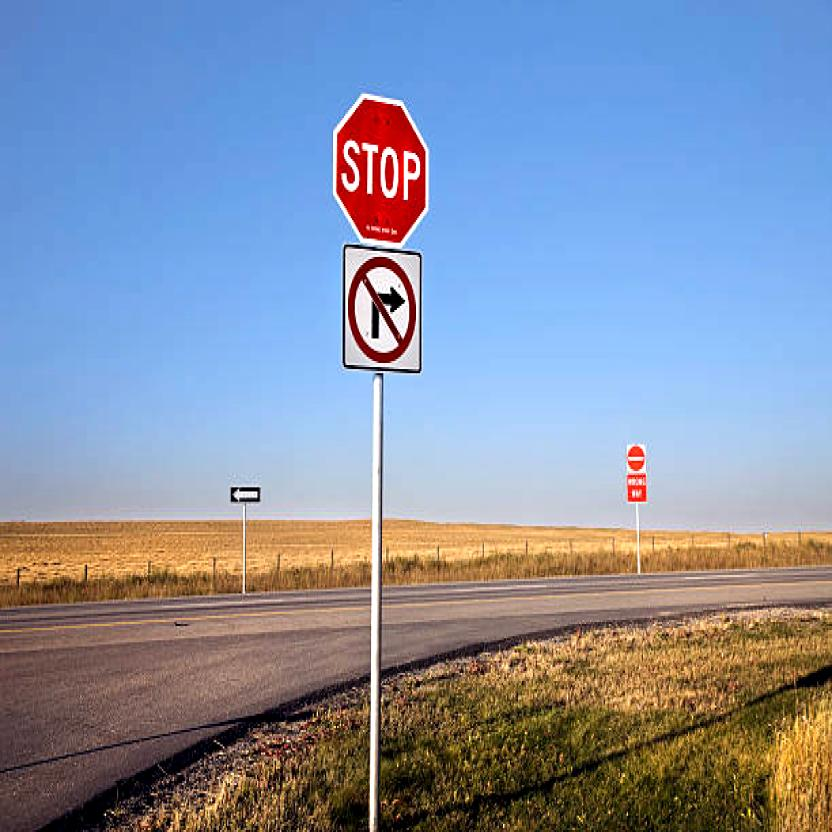Pole: (371, 374, 382, 832)
Sign: (333, 89, 430, 248)
